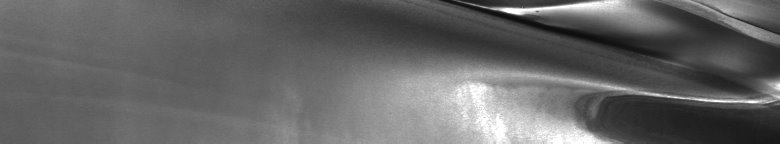ke: (366, 4, 776, 136)
